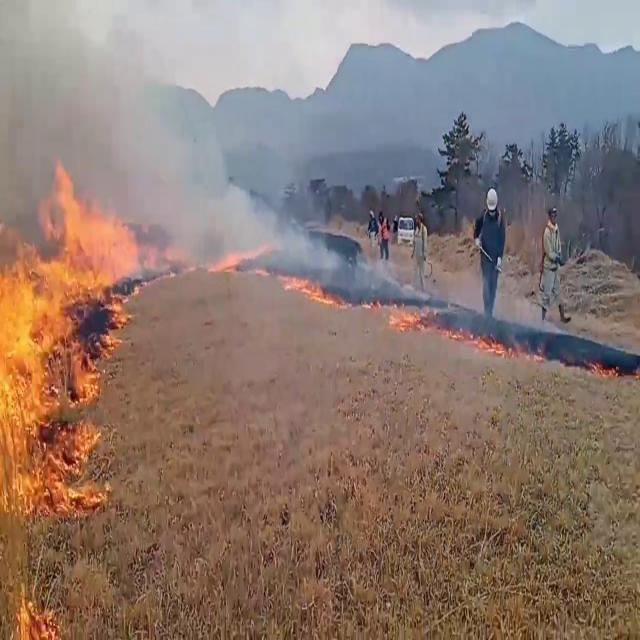Fire: (0, 155, 148, 505), (279, 268, 342, 306)
Smoke: (0, 1, 341, 260)
